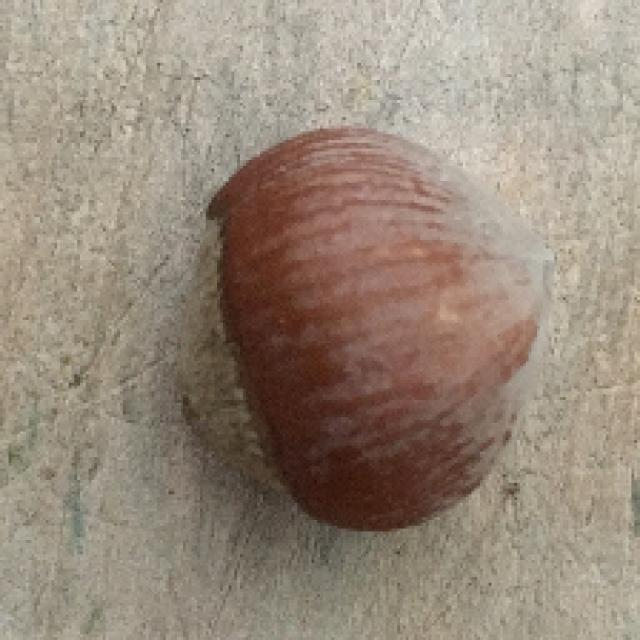qualityHazelnut: (176, 123, 548, 532)
